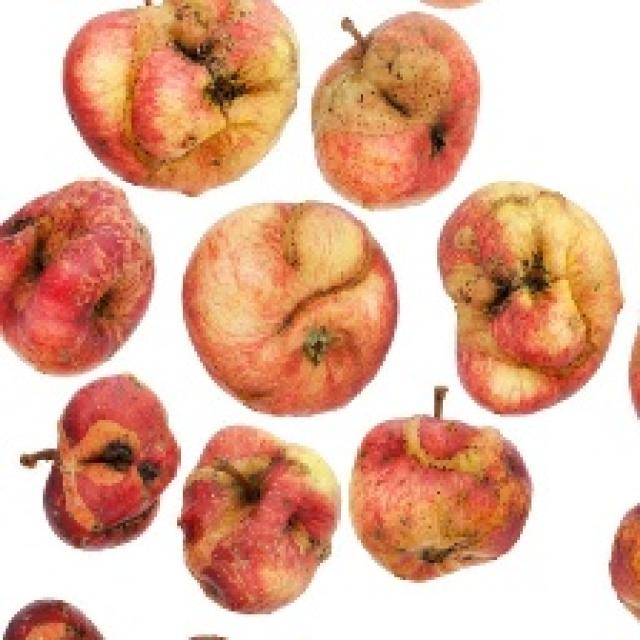rotten_apple: (64, 0, 298, 188), (188, 201, 393, 410), (437, 186, 620, 410), (319, 14, 479, 204), (0, 186, 155, 372), (356, 420, 532, 577), (49, 380, 177, 545)
